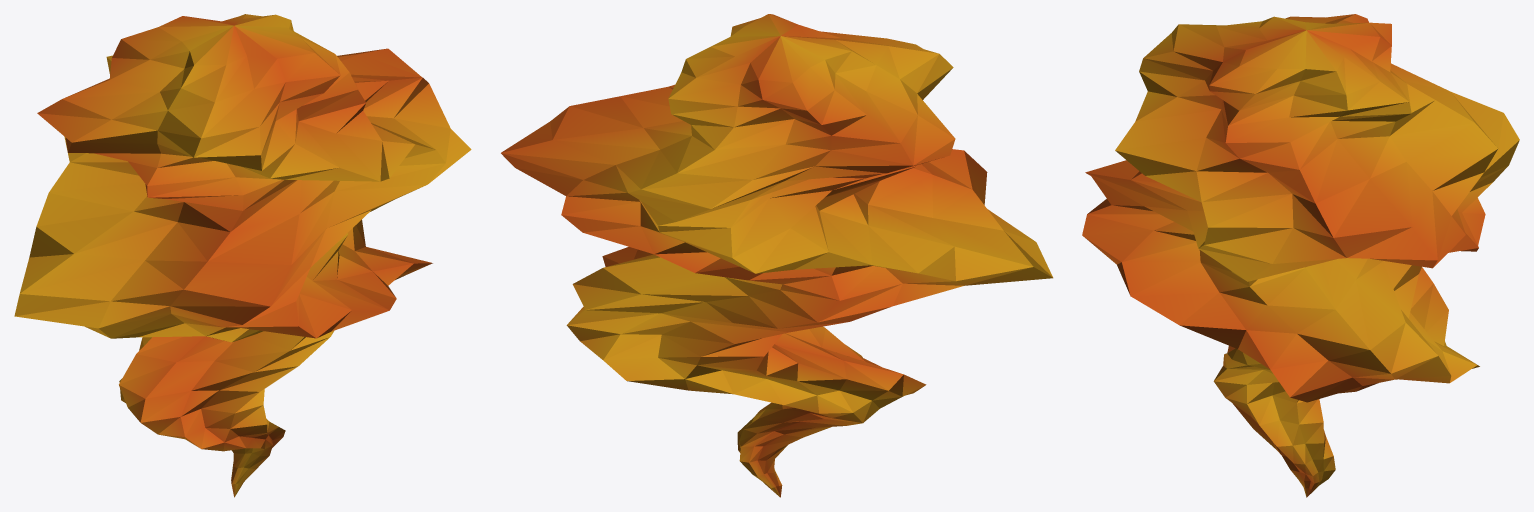
File: Xiangling_GuobaBreath_ThreeTargets_GuobaJet_29_2_Outer.fbx
The picture shows the model from 3 angles, left to right: view 1: azimuth 30°, elevation 25°; view 2: azimuth 150°, elevation 25°; view 3: azimuth 270°, elevation 25°; orthographic projection. The views are drawn at different scales.
Visible parts, largest first — view 1: PART_GuobaJet_29_2_Outer; view 2: PART_GuobaJet_29_2_Outer; view 3: PART_GuobaJet_29_2_Outer.
Boxes of the visible parts, x1,y1,x2,y2 form: PART_GuobaJet_29_2_Outer: (14,14,471,497); PART_GuobaJet_29_2_Outer: (501,14,1053,497); PART_GuobaJet_29_2_Outer: (1082,14,1519,497).
Size of the model in its own units: 104 by 100 by 84.84.
